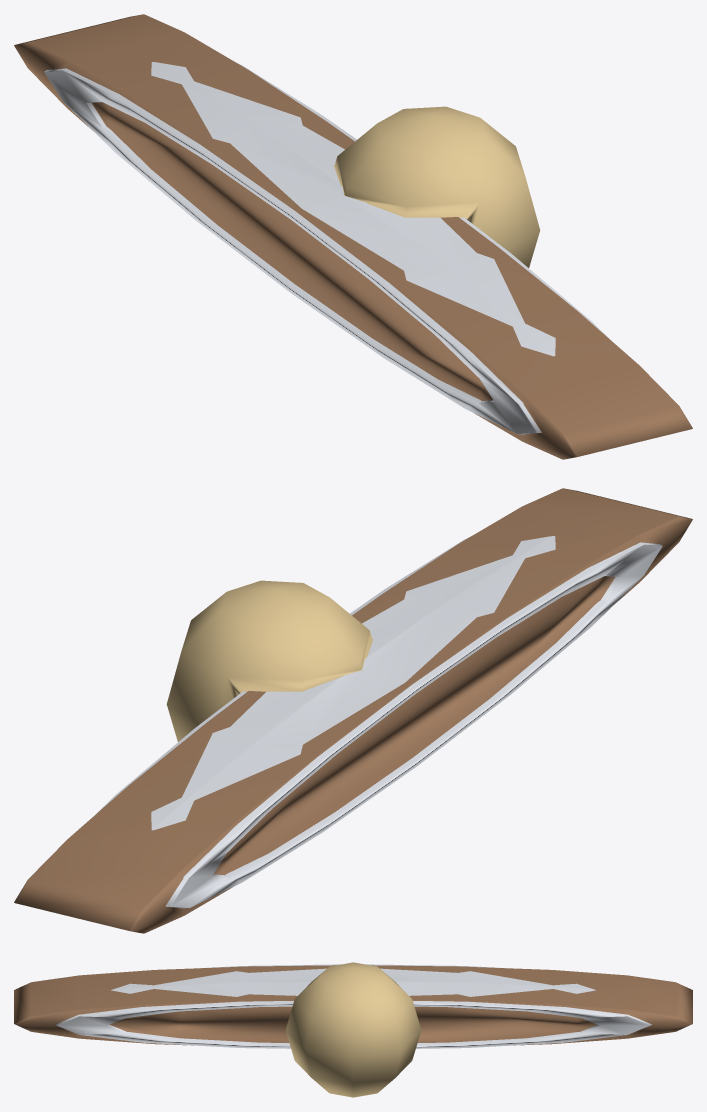
File: weapons_shield.glb
3 views of the same model, one above another, from view 1: azimuth 30°, elevation 25°; view 2: azimuth 150°, elevation 25°; view 3: azimuth 270°, elevation 25° (orthographic). The views are drawn at different scales.
Parts seen in each view (by area): view 1: weapons_shield; view 2: weapons_shield; view 3: weapons_shield.
Part boxes in pixels (x1=…): weapons_shield: x1=14, y1=14, x2=692, y2=459; weapons_shield: x1=14, y1=488, x2=692, y2=933; weapons_shield: x1=14, y1=962, x2=692, y2=1097.
Bounding box in the file's own units: 0.1225 × 0.1 × 0.5.
